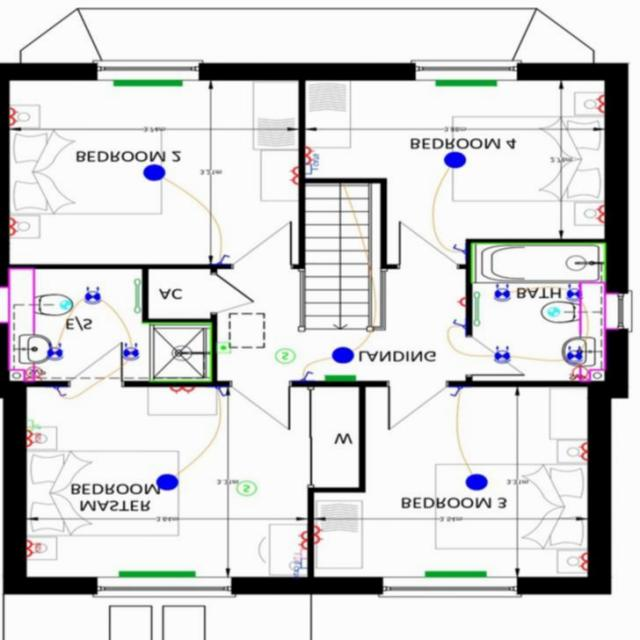Cat 6 Data Socket: (304, 154, 318, 175), (293, 559, 307, 579)
Ceiling Mounted Continuous Extract FanWith Boost Mode Activated By Light Switch: (547, 310, 559, 318), (60, 302, 70, 310)
Double Socket: (288, 167, 298, 186), (312, 527, 323, 544), (169, 388, 192, 396), (8, 108, 18, 126), (577, 553, 586, 572), (594, 207, 604, 223), (297, 533, 307, 549), (304, 147, 313, 164), (8, 219, 17, 236), (578, 444, 587, 461), (595, 97, 603, 113)
Full Height Tiling: (470, 244, 605, 283), (142, 324, 210, 382)
Light Switch: (452, 318, 465, 330), (214, 256, 228, 265), (450, 388, 462, 398), (453, 244, 465, 254), (215, 388, 226, 398), (54, 388, 66, 397), (301, 372, 312, 381)
Low Energy Downlighter: (83, 287, 102, 306), (493, 346, 510, 365), (492, 285, 510, 302), (566, 346, 582, 365), (46, 343, 62, 362), (121, 344, 138, 361), (566, 285, 581, 302)
Low Energy Pendant Light: (154, 475, 178, 492), (331, 348, 354, 365), (142, 165, 164, 182), (444, 152, 465, 169), (466, 475, 486, 491)
Mains Wired Smoke Detector: (235, 482, 256, 498), (274, 350, 294, 364)
Programmable Room Thermostat: (217, 343, 230, 354)
Radiator: (118, 572, 194, 578), (434, 80, 496, 87), (113, 81, 181, 87), (425, 572, 485, 578), (324, 374, 354, 382)
Shaver Socket: (24, 363, 42, 382), (570, 365, 587, 382)
Single Socket: (455, 297, 465, 308)
Telephone Socket: (293, 550, 306, 564), (26, 421, 40, 432)
USB Double Socket: (26, 541, 40, 558), (26, 432, 40, 448)
